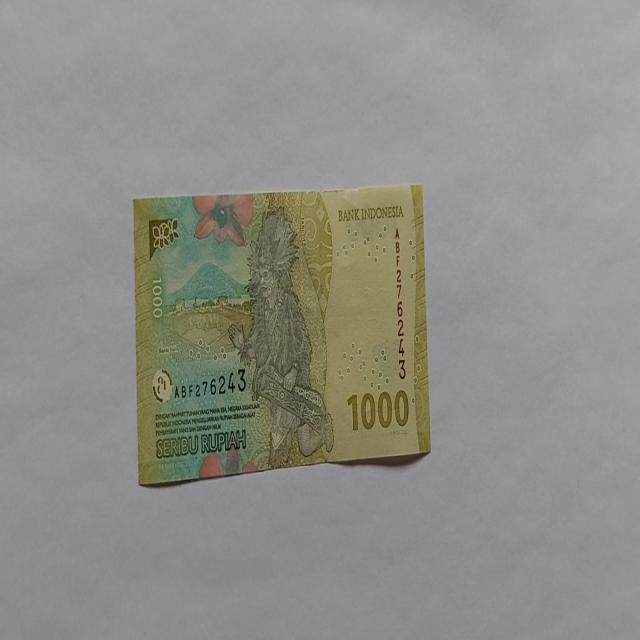seribu rupiah kertas: (132, 182, 432, 486)
